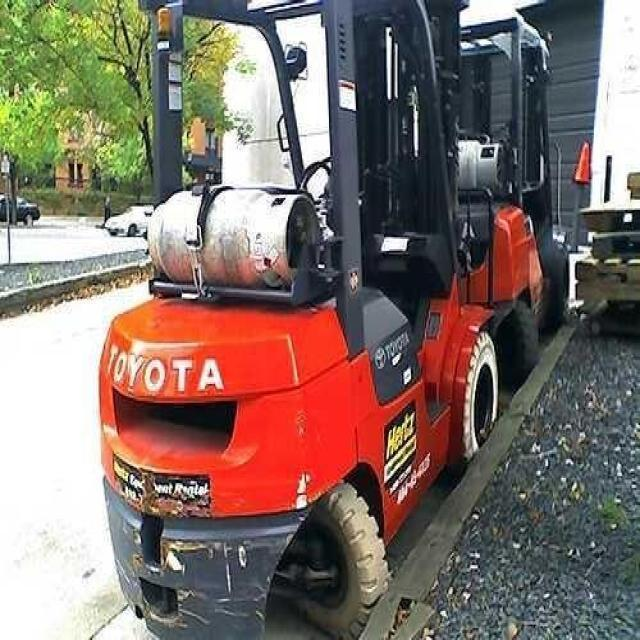forklift: (100, 0, 497, 640), (411, 0, 573, 391)
